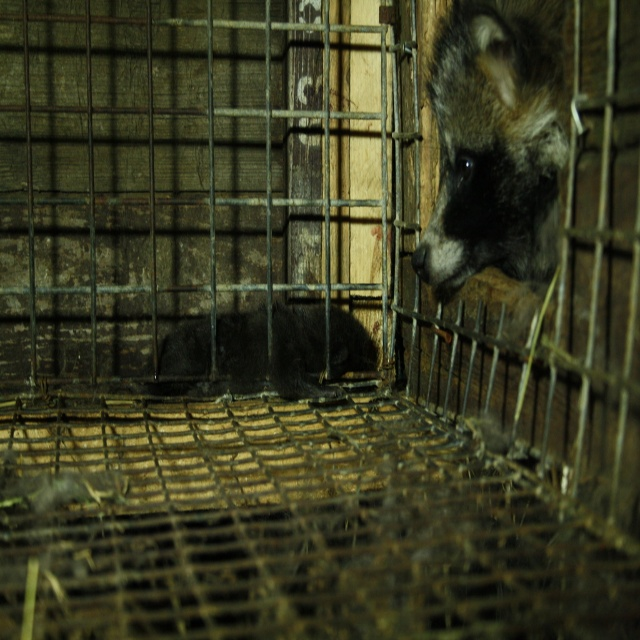Raccoon: (402, 0, 567, 304)
